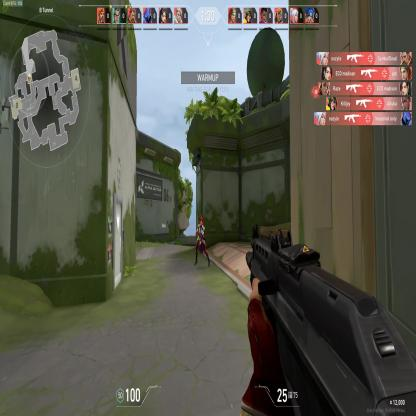enemy: (194, 214, 210, 268)
